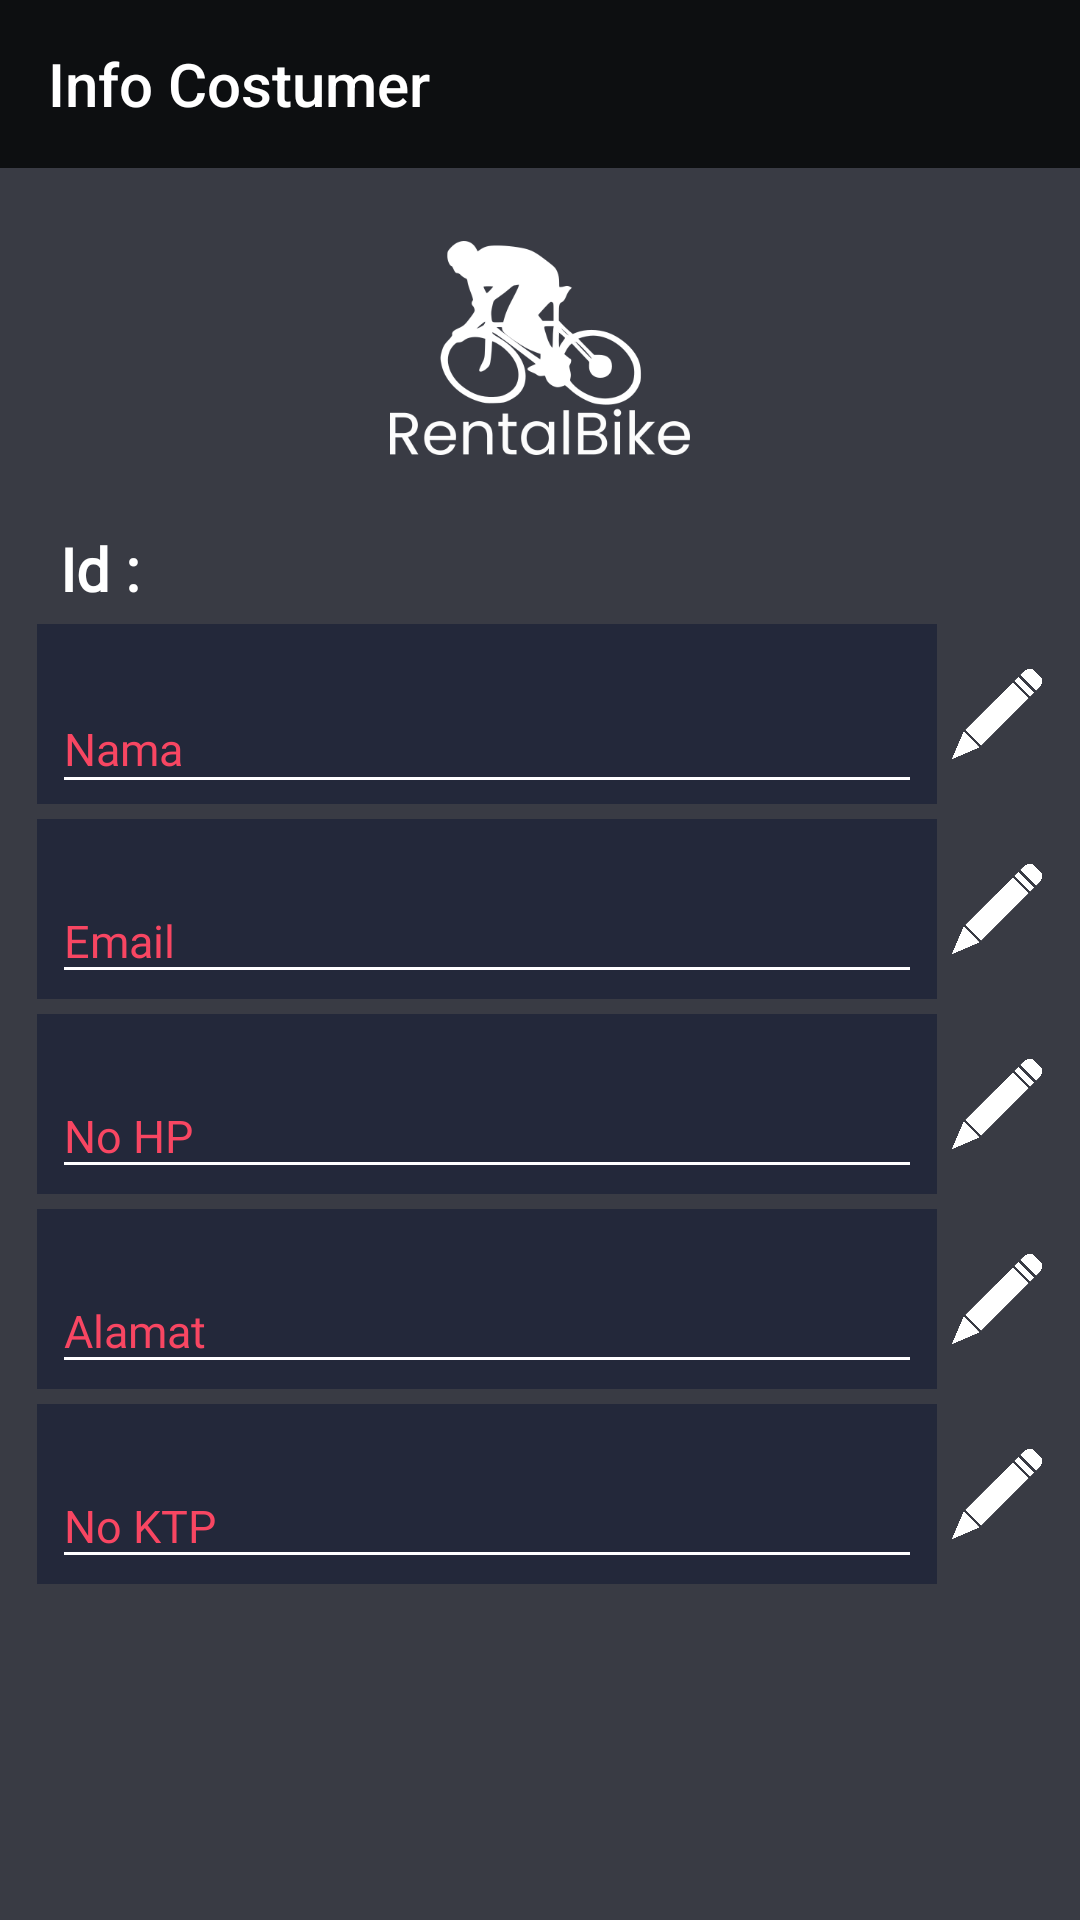

Named icons in this screenshot (1080px x 1920px) and their bounding boxes, (x1, y1, x2, y2):
editdata: (952, 669, 1042, 759), (952, 864, 1042, 954), (952, 1059, 1042, 1149), (952, 1254, 1042, 1344), (952, 1449, 1042, 1539)
